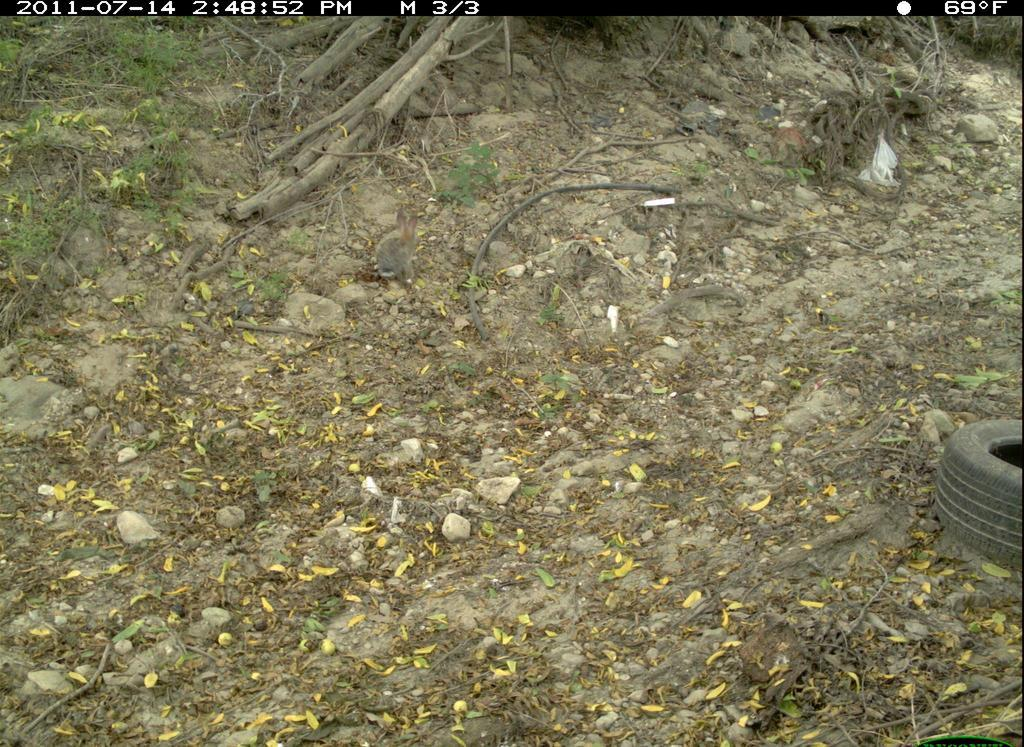rabbit: (367, 201, 432, 293)
